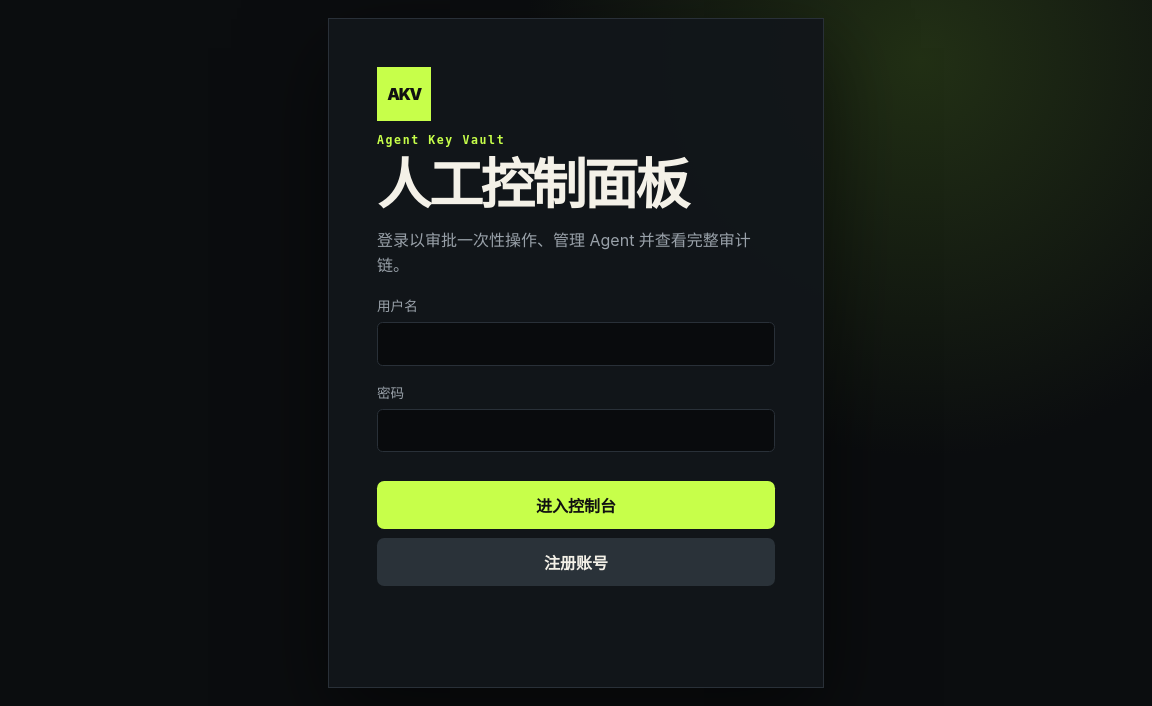
Scenario: authentication view transition › does not request registration when the passwords differ
Click the button with class "auth-switch" at (576, 562), box [377,538,775,586]
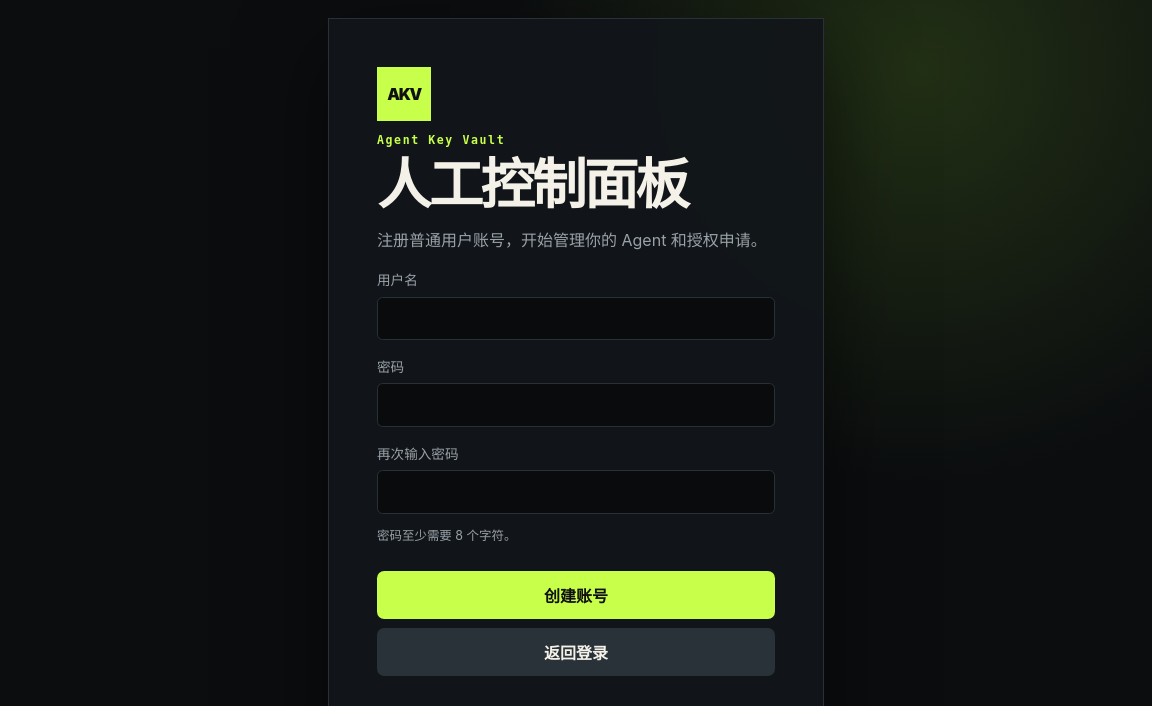
Type "new-user" into the field named "username" at (576, 318), box [377,296,775,340]
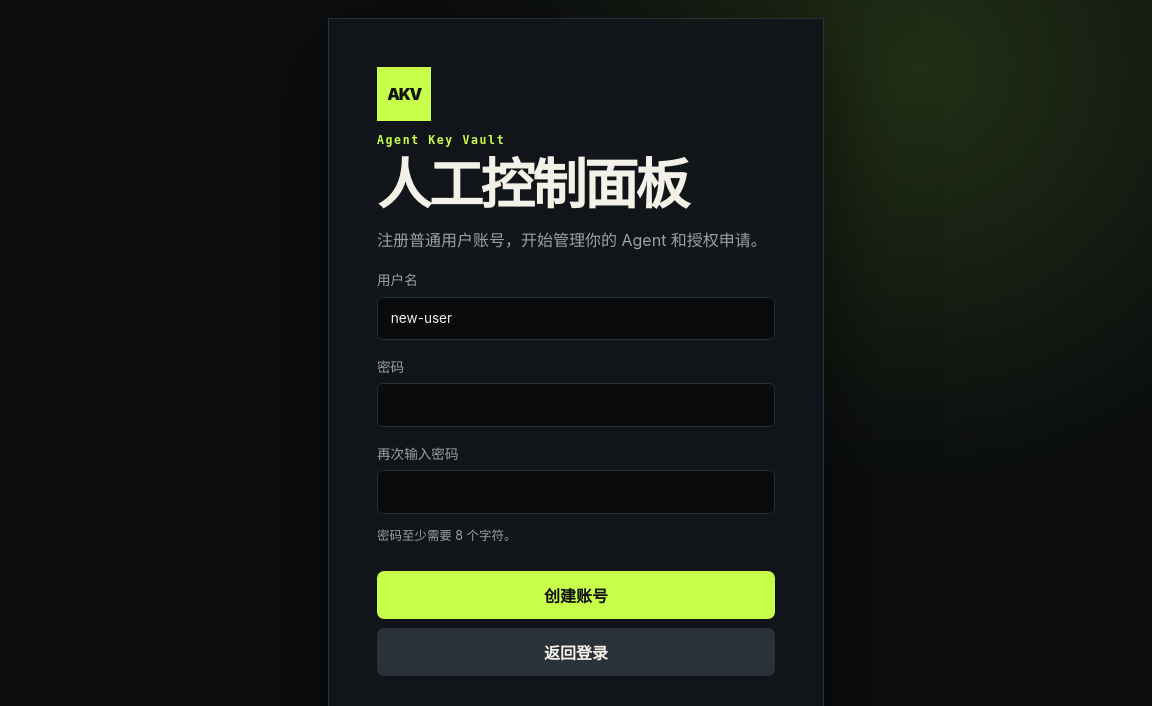
Type "first-password" into the password field named "password" at (576, 405), box [377,383,775,427]
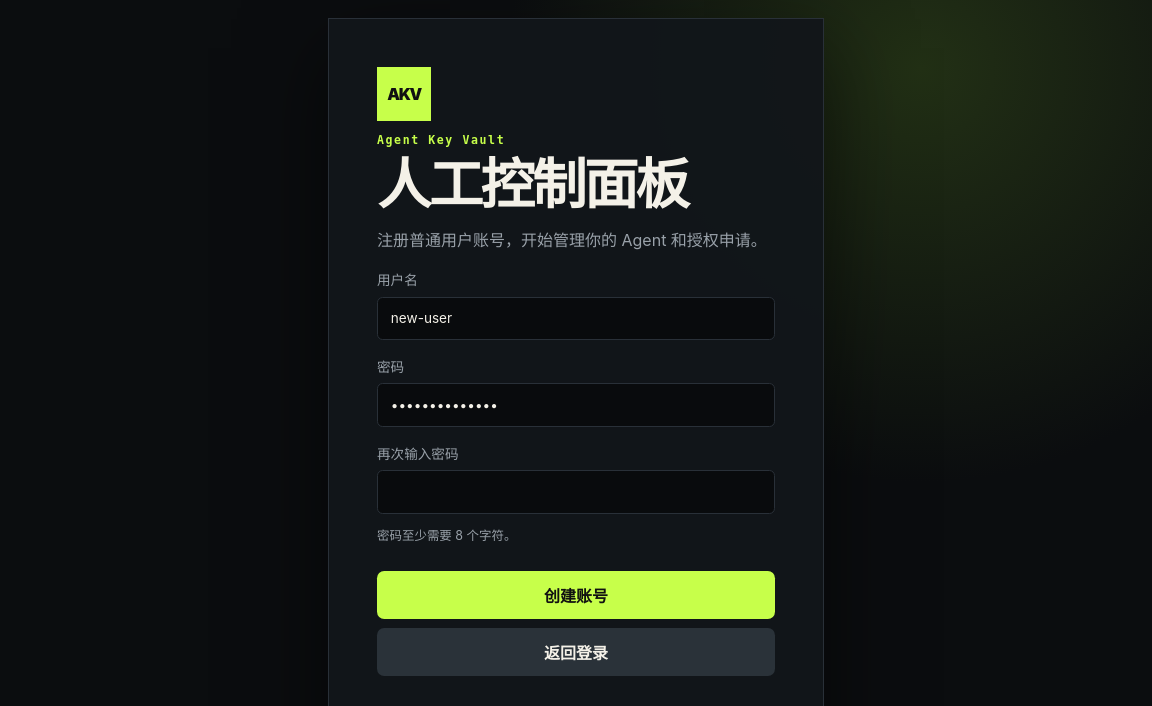
Type "second-password" into the password field named "password_confirmation" at (576, 492), box [377,470,775,514]
(page scrolled)
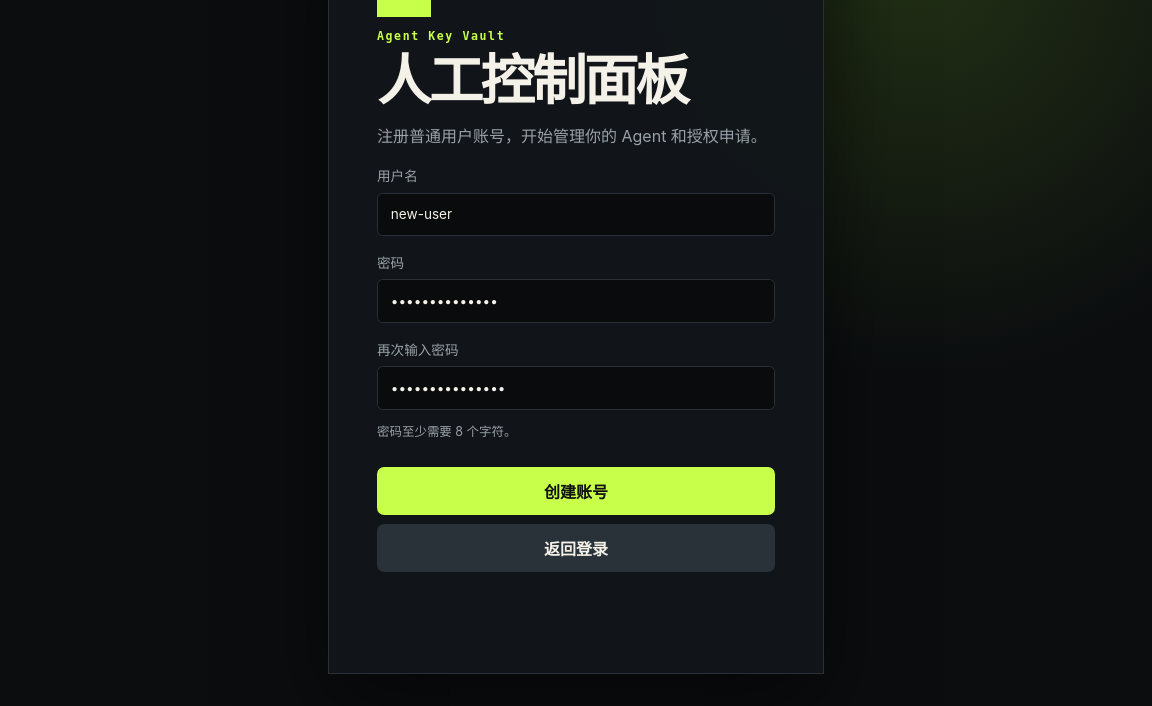
Submit the form, box [377,165,775,609]
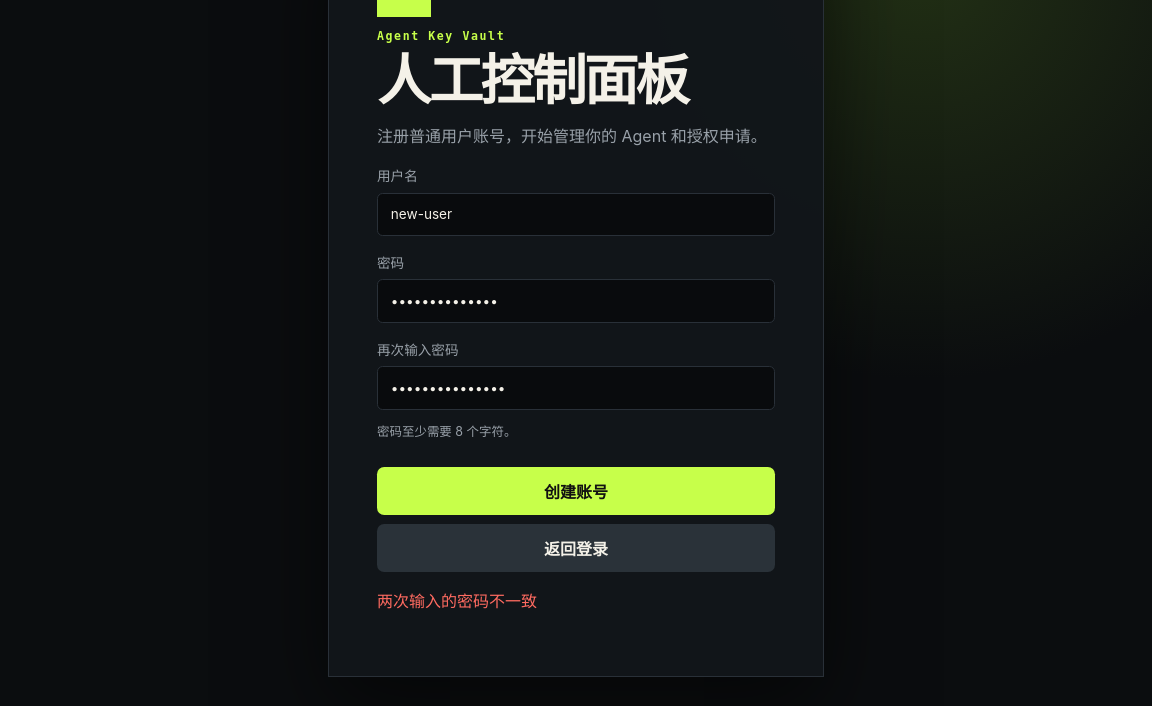
Expected: the submit button is enabled, [377,467,775,515]
Result: the message "两次输入的密码不一致" is shown at [377,591,537,611]
